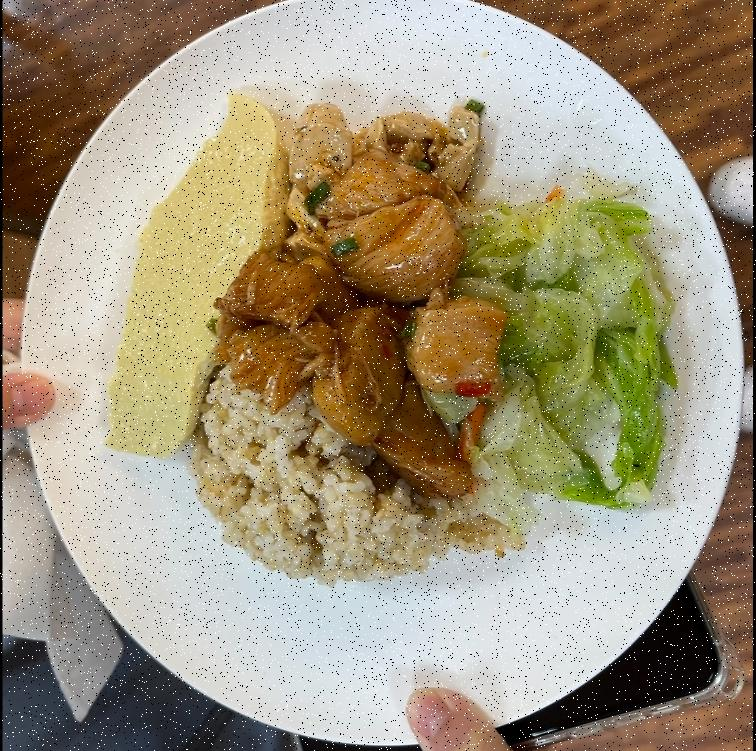big fried chicken leg: (9, 0, 745, 751)
box: (188, 367, 459, 580)
braised fish fillet: (80, 90, 292, 456), (466, 190, 686, 501), (291, 90, 483, 203)
braised pork: (220, 160, 504, 490)
